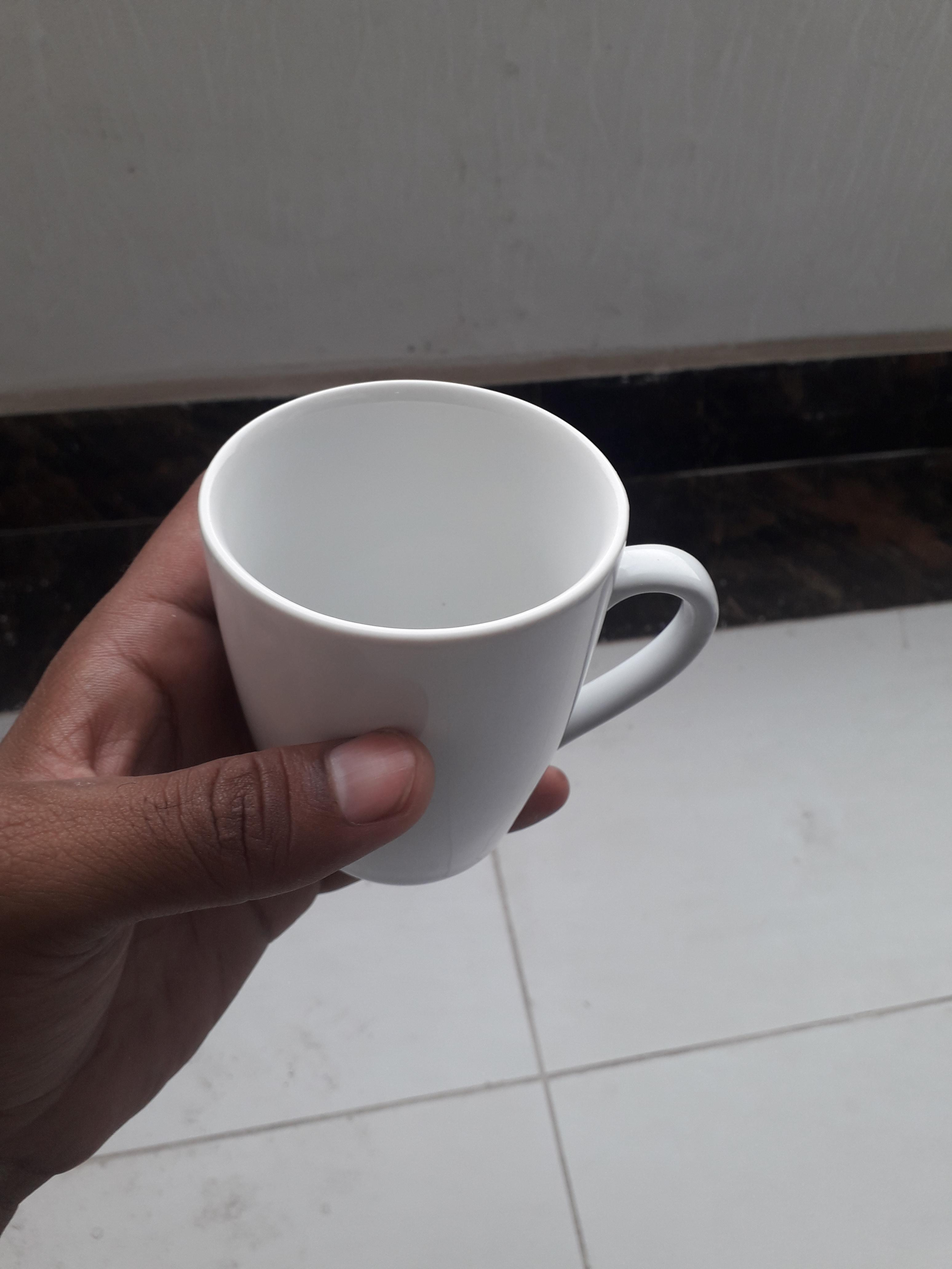cup-handle: (192, 365, 720, 895)
